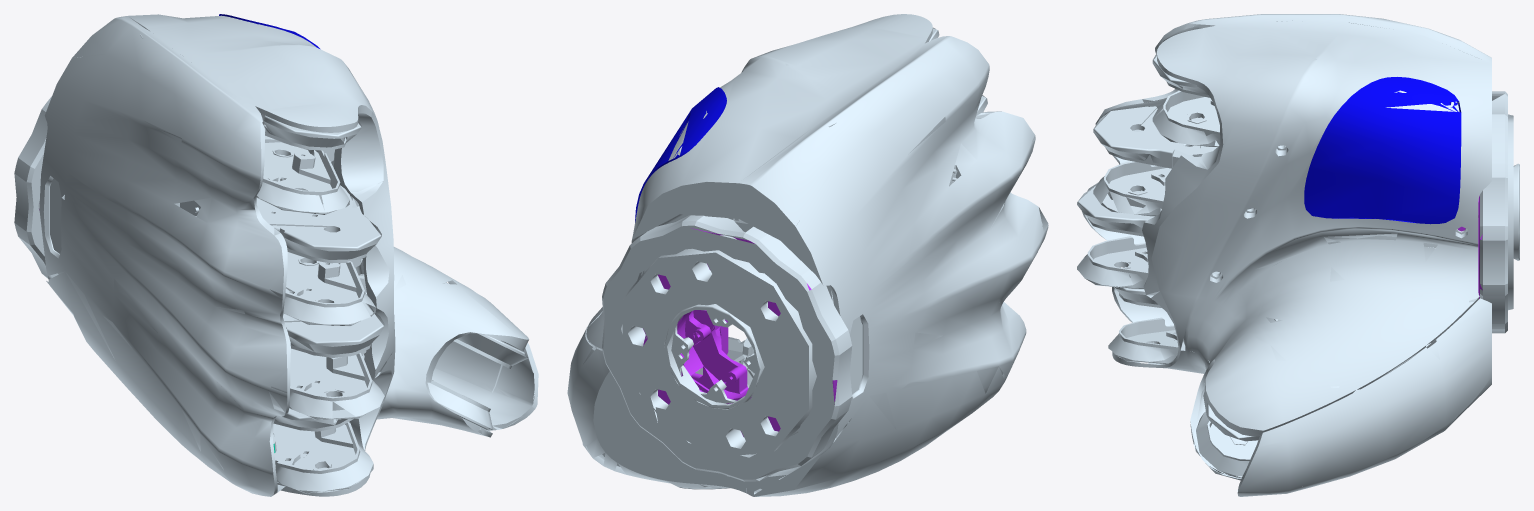
File: hit-hand-2-palm-left.dae
3 views of the same model, side by side, from view 1: azimuth 30°, elevation 25°; view 2: azimuth 150°, elevation 25°; view 3: azimuth 270°, elevation 25° (orthographic). The views are drawn at different scales.
Visible parts, largest first — view 1: IndexedTriangleStripSet_6, IndexedTriangleStripSet_14, IndexedTriangleStripSet_22, IndexedTriangleStripSet_30; view 2: IndexedTriangleStripSet_6, IndexedTriangleStripSet_14, IndexedTriangleStripSet_22, IndexedTriangleStripSet_30, IndexedTriangleStripSet_4, IndexedTriangleStripSet_12, IndexedTriangleStripSet_2; view 3: IndexedTriangleStripSet_6, IndexedTriangleStripSet_14, IndexedTriangleStripSet_22, IndexedTriangleStripSet_2, IndexedTriangleStripSet_30, IndexedTriangleStripSet_26, IndexedTriangleStripSet_18, IndexedTriangleStripSet_10.
Part boxes in pixels (x1,y1,x2,y2): IndexedTriangleStripSet_6: (14,15,538,496); IndexedTriangleStripSet_14: (15,17,538,496); IndexedTriangleStripSet_22: (14,14,537,496); IndexedTriangleStripSet_30: (35,16,536,496); IndexedTriangleStripSet_6: (571,14,1048,496); IndexedTriangleStripSet_14: (567,14,1048,496); IndexedTriangleStripSet_22: (567,14,1047,496); IndexedTriangleStripSet_30: (572,16,1046,494); IndexedTriangleStripSet_4: (643,228,834,434); IndexedTriangleStripSet_12: (644,228,780,436); IndexedTriangleStripSet_2: (635,87,726,222); IndexedTriangleStripSet_6: (1077,14,1519,496); IndexedTriangleStripSet_14: (1077,14,1519,493); IndexedTriangleStripSet_22: (1078,15,1519,493); IndexedTriangleStripSet_2: (1304,77,1461,224); IndexedTriangleStripSet_30: (1093,20,1507,493); IndexedTriangleStripSet_26: (1305,77,1460,218); IndexedTriangleStripSet_18: (1317,77,1460,199); IndexedTriangleStripSet_10: (1304,90,1460,223).
Size of the model in its own units: 0.1249 by 0.1271 by 0.1417.
